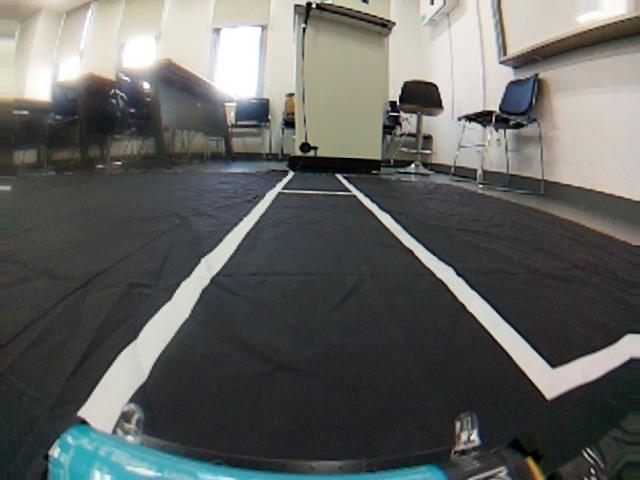straight: (46, 201, 640, 458)
